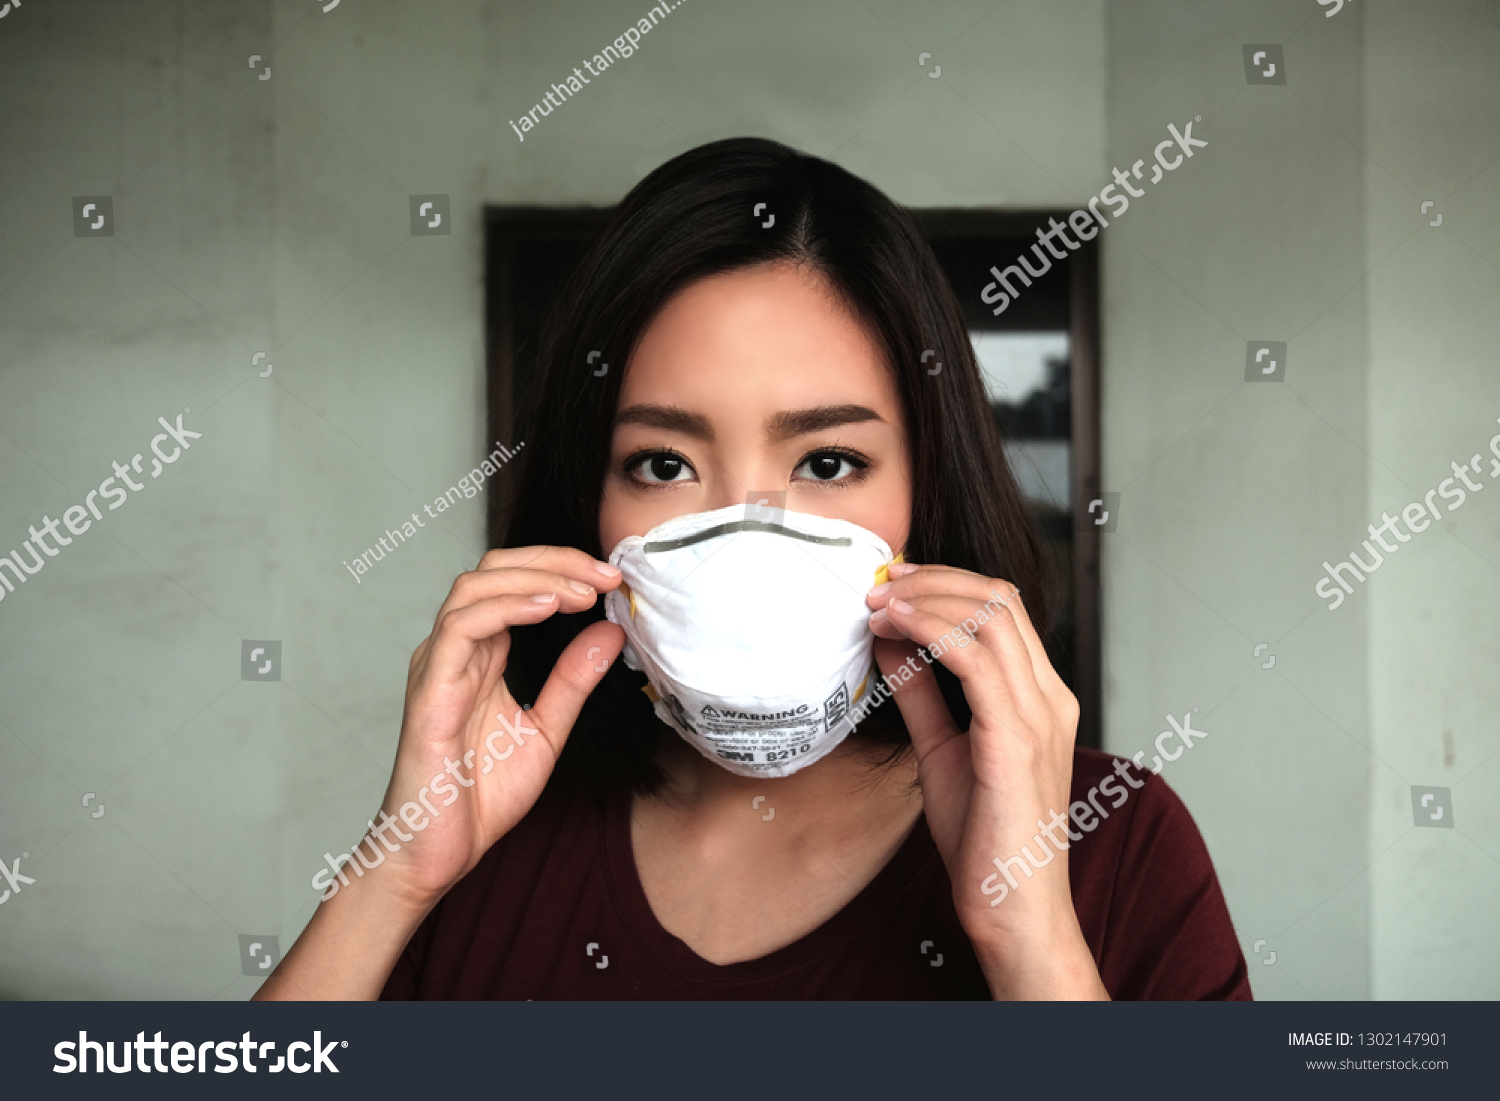n95: (588, 499, 913, 781)
